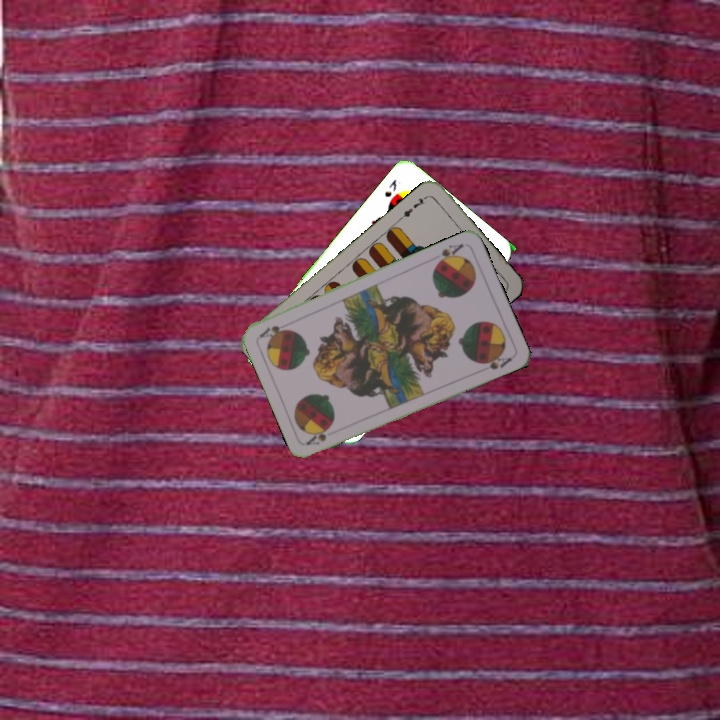E7: (396, 191, 431, 222)
SA: (432, 239, 466, 268), (302, 424, 333, 448)
SK: (380, 175, 400, 200)
